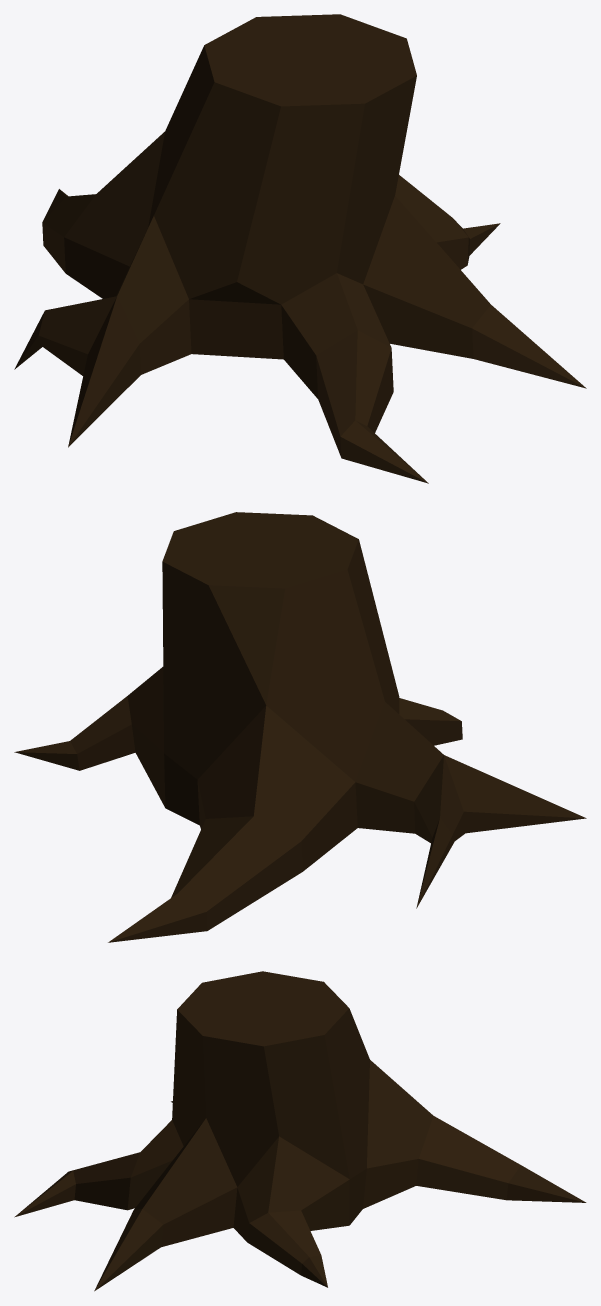
The model's file is treeLog.FBX.
The picture shows the model from 3 angles, top to bottom: view 1: azimuth 30°, elevation 25°; view 2: azimuth 150°, elevation 25°; view 3: azimuth 270°, elevation 25°; orthographic projection. The views are drawn at different scales.
Visible parts, largest first — view 1: log; view 2: log; view 3: log.
Part boxes in pixels (left/top/right/bottom): log: left=14, top=14, right=586, bottom=483; log: left=14, top=512, right=586, bottom=942; log: left=14, top=971, right=586, bottom=1291.
Size of the model in its own units: 101 by 53.97 by 122.
